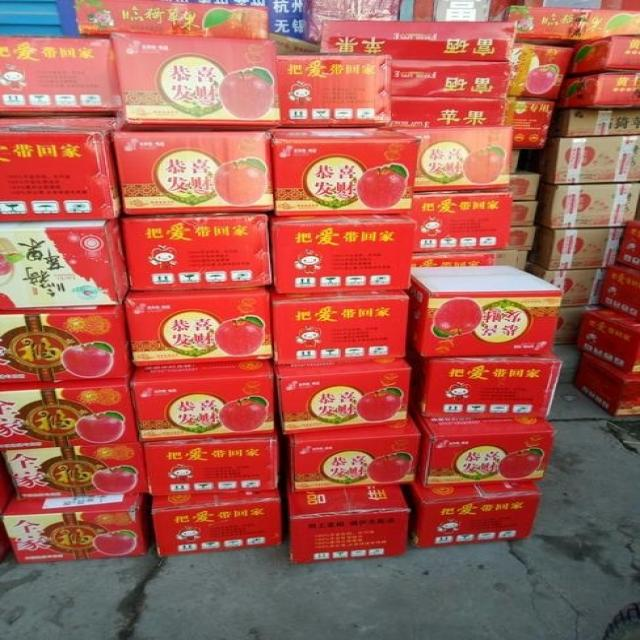Carton: (0, 0, 639, 566)
